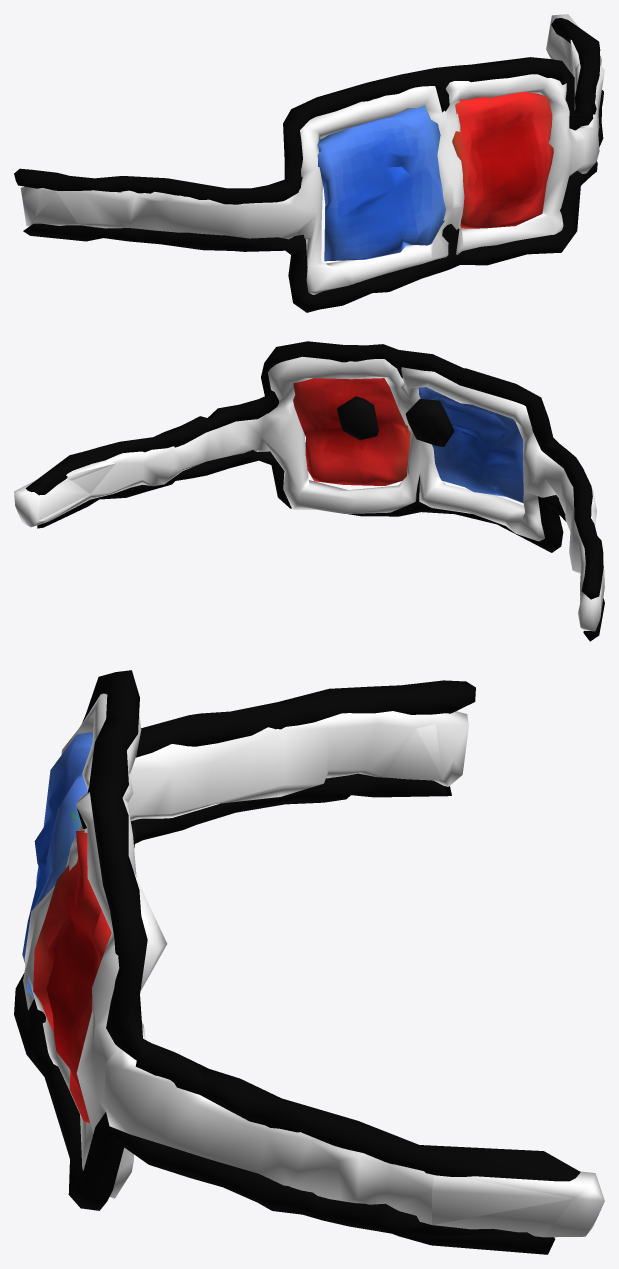
File: 3D glasses.glb
3 renders of one model, top to bottom at view 1: azimuth 30°, elevation 25°; view 2: azimuth 150°, elevation 25°; view 3: azimuth 270°, elevation 25°, orthographic. The views are drawn at different scales.
Parts seen in each view (by area): view 1: eyes_normal.001; view 2: eyes_normal.001; view 3: eyes_normal.001.
Part boxes in pixels (<box>): eyes_normal.001: <box>14,14,604,312</box>; eyes_normal.001: <box>14,341,604,641</box>; eyes_normal.001: <box>14,670,604,1254</box>.
Bounding box in the file's own units: 0.3222 × 0.1083 × 0.165.
Materials: 4 (4 with a texture image).
